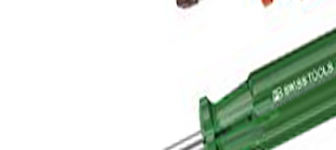Screwdriver: (147, 27, 336, 150)
